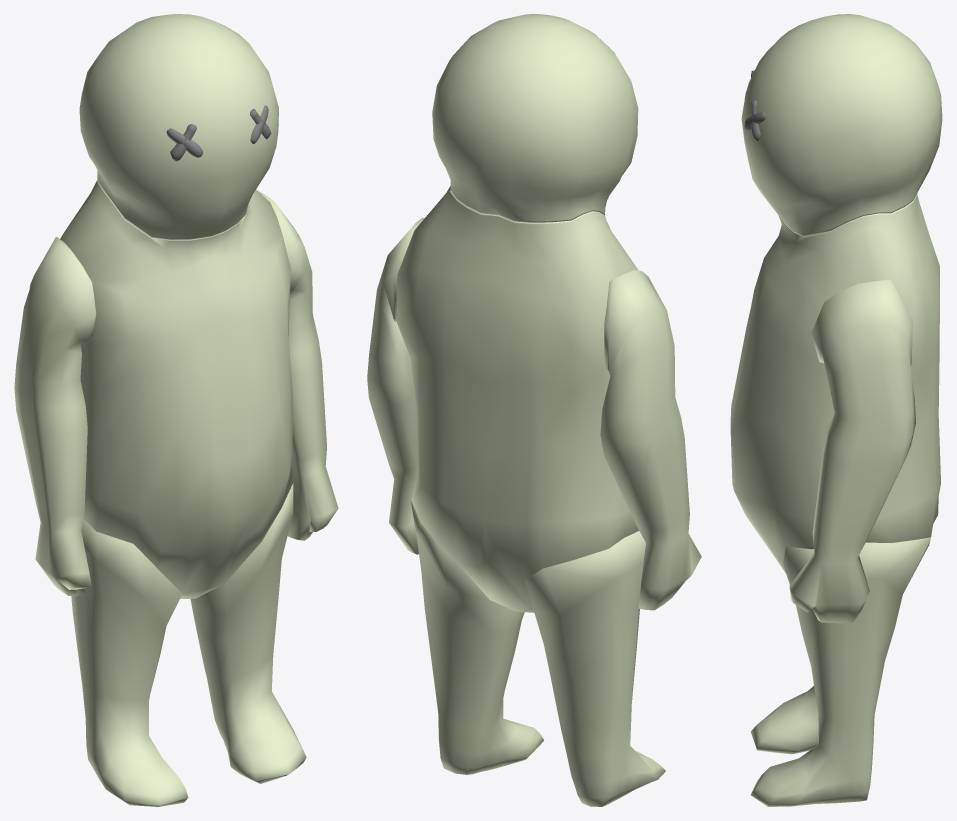
Rendered from CorpseBase.fbx.
3 renders of one model, left to right at view 1: azimuth 30°, elevation 25°; view 2: azimuth 150°, elevation 25°; view 3: azimuth 270°, elevation 25°, orthographic. The views are drawn at different scales.
Parts seen in each view (by area): view 1: torso, head, legDX, armDX, legSX, armSX; view 2: torso, head, legDX, armDX, legSX, armSX; view 3: torso, head, armSX, legSX, legDX.
Part boxes in pixels (left/top/right/bottom): torso: left=60, top=180, right=292, bottom=598; head: left=79, top=14, right=278, bottom=239; legDX: left=71, top=519, right=188, bottom=806; armDX: left=14, top=237, right=96, bottom=596; legSX: left=190, top=483, right=306, bottom=783; armSX: left=258, top=191, right=338, bottom=540; torso: left=396, top=186, right=639, bottom=612; head: left=432, top=14, right=638, bottom=222; legDX: left=524, top=531, right=665, bottom=806; armDX: left=600, top=269, right=701, bottom=610; legSX: left=410, top=500, right=543, bottom=774; armSX: left=367, top=217, right=424, bottom=554; torso: left=730, top=193, right=940, bottom=573; head: left=741, top=14, right=942, bottom=236; armSX: left=789, top=279, right=915, bottom=623; legSX: left=751, top=537, right=930, bottom=806; legDX: left=750, top=686, right=818, bottom=754.
Size of the model in its own units: 75.86 by 192 by 49.28.
